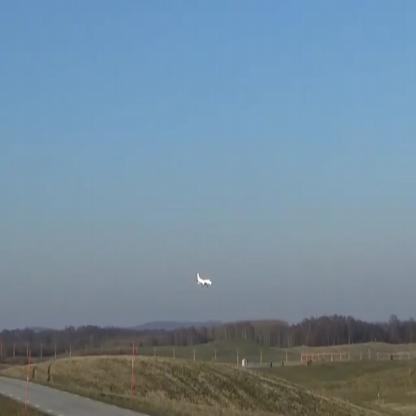CIV_Plane: (196, 272, 212, 289)
